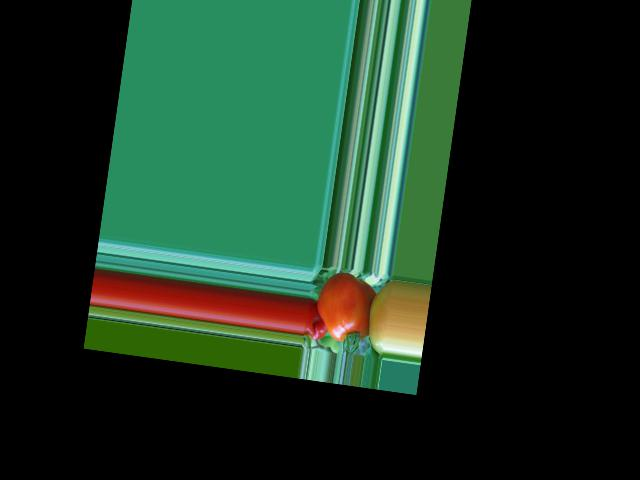tomato: (312, 269, 375, 345)
